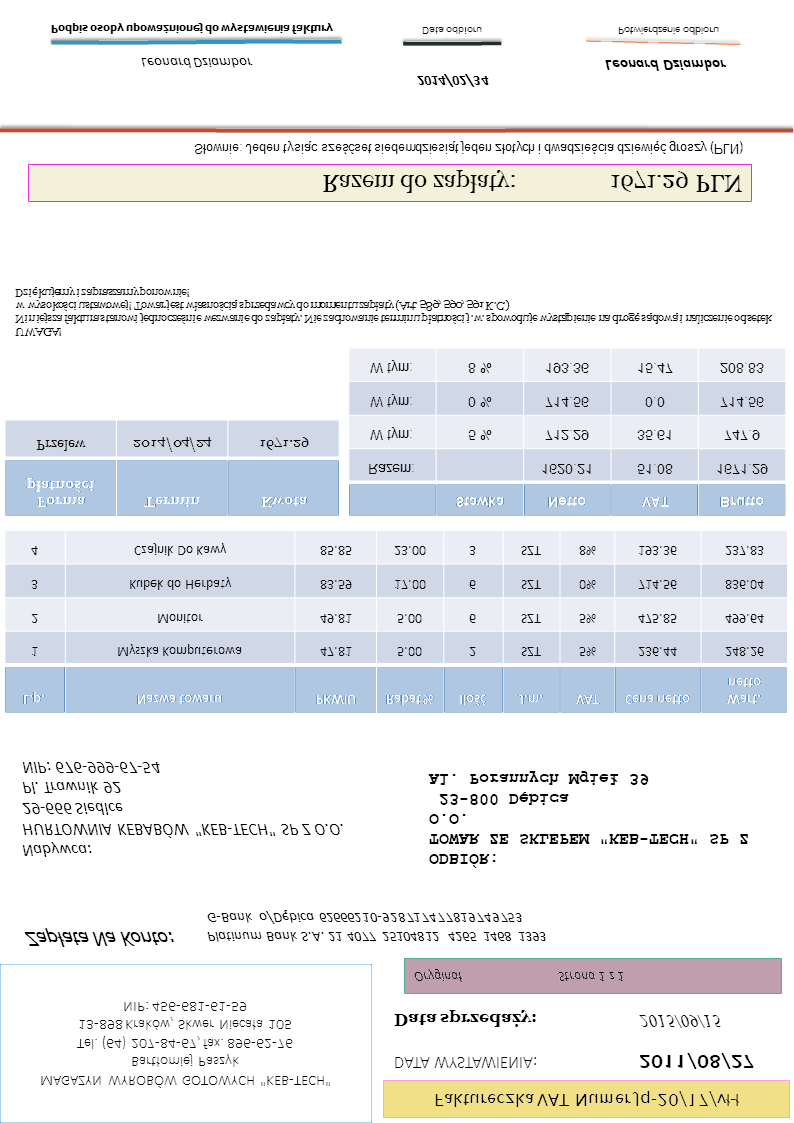Table: (4, 529, 788, 715), (347, 347, 787, 517), (4, 418, 340, 518)
TextBox: (12, 283, 775, 340), (425, 768, 754, 872), (18, 758, 344, 861), (37, 997, 334, 1091), (204, 907, 550, 946), (320, 167, 745, 198), (192, 137, 743, 160), (431, 1089, 740, 1111), (48, 20, 336, 39), (412, 966, 624, 984), (22, 926, 175, 950), (391, 1008, 540, 1030), (391, 1052, 538, 1073), (637, 1048, 755, 1071), (601, 57, 726, 74), (138, 54, 256, 72), (638, 1011, 722, 1031), (616, 24, 720, 37), (415, 72, 490, 90), (418, 23, 483, 39)
